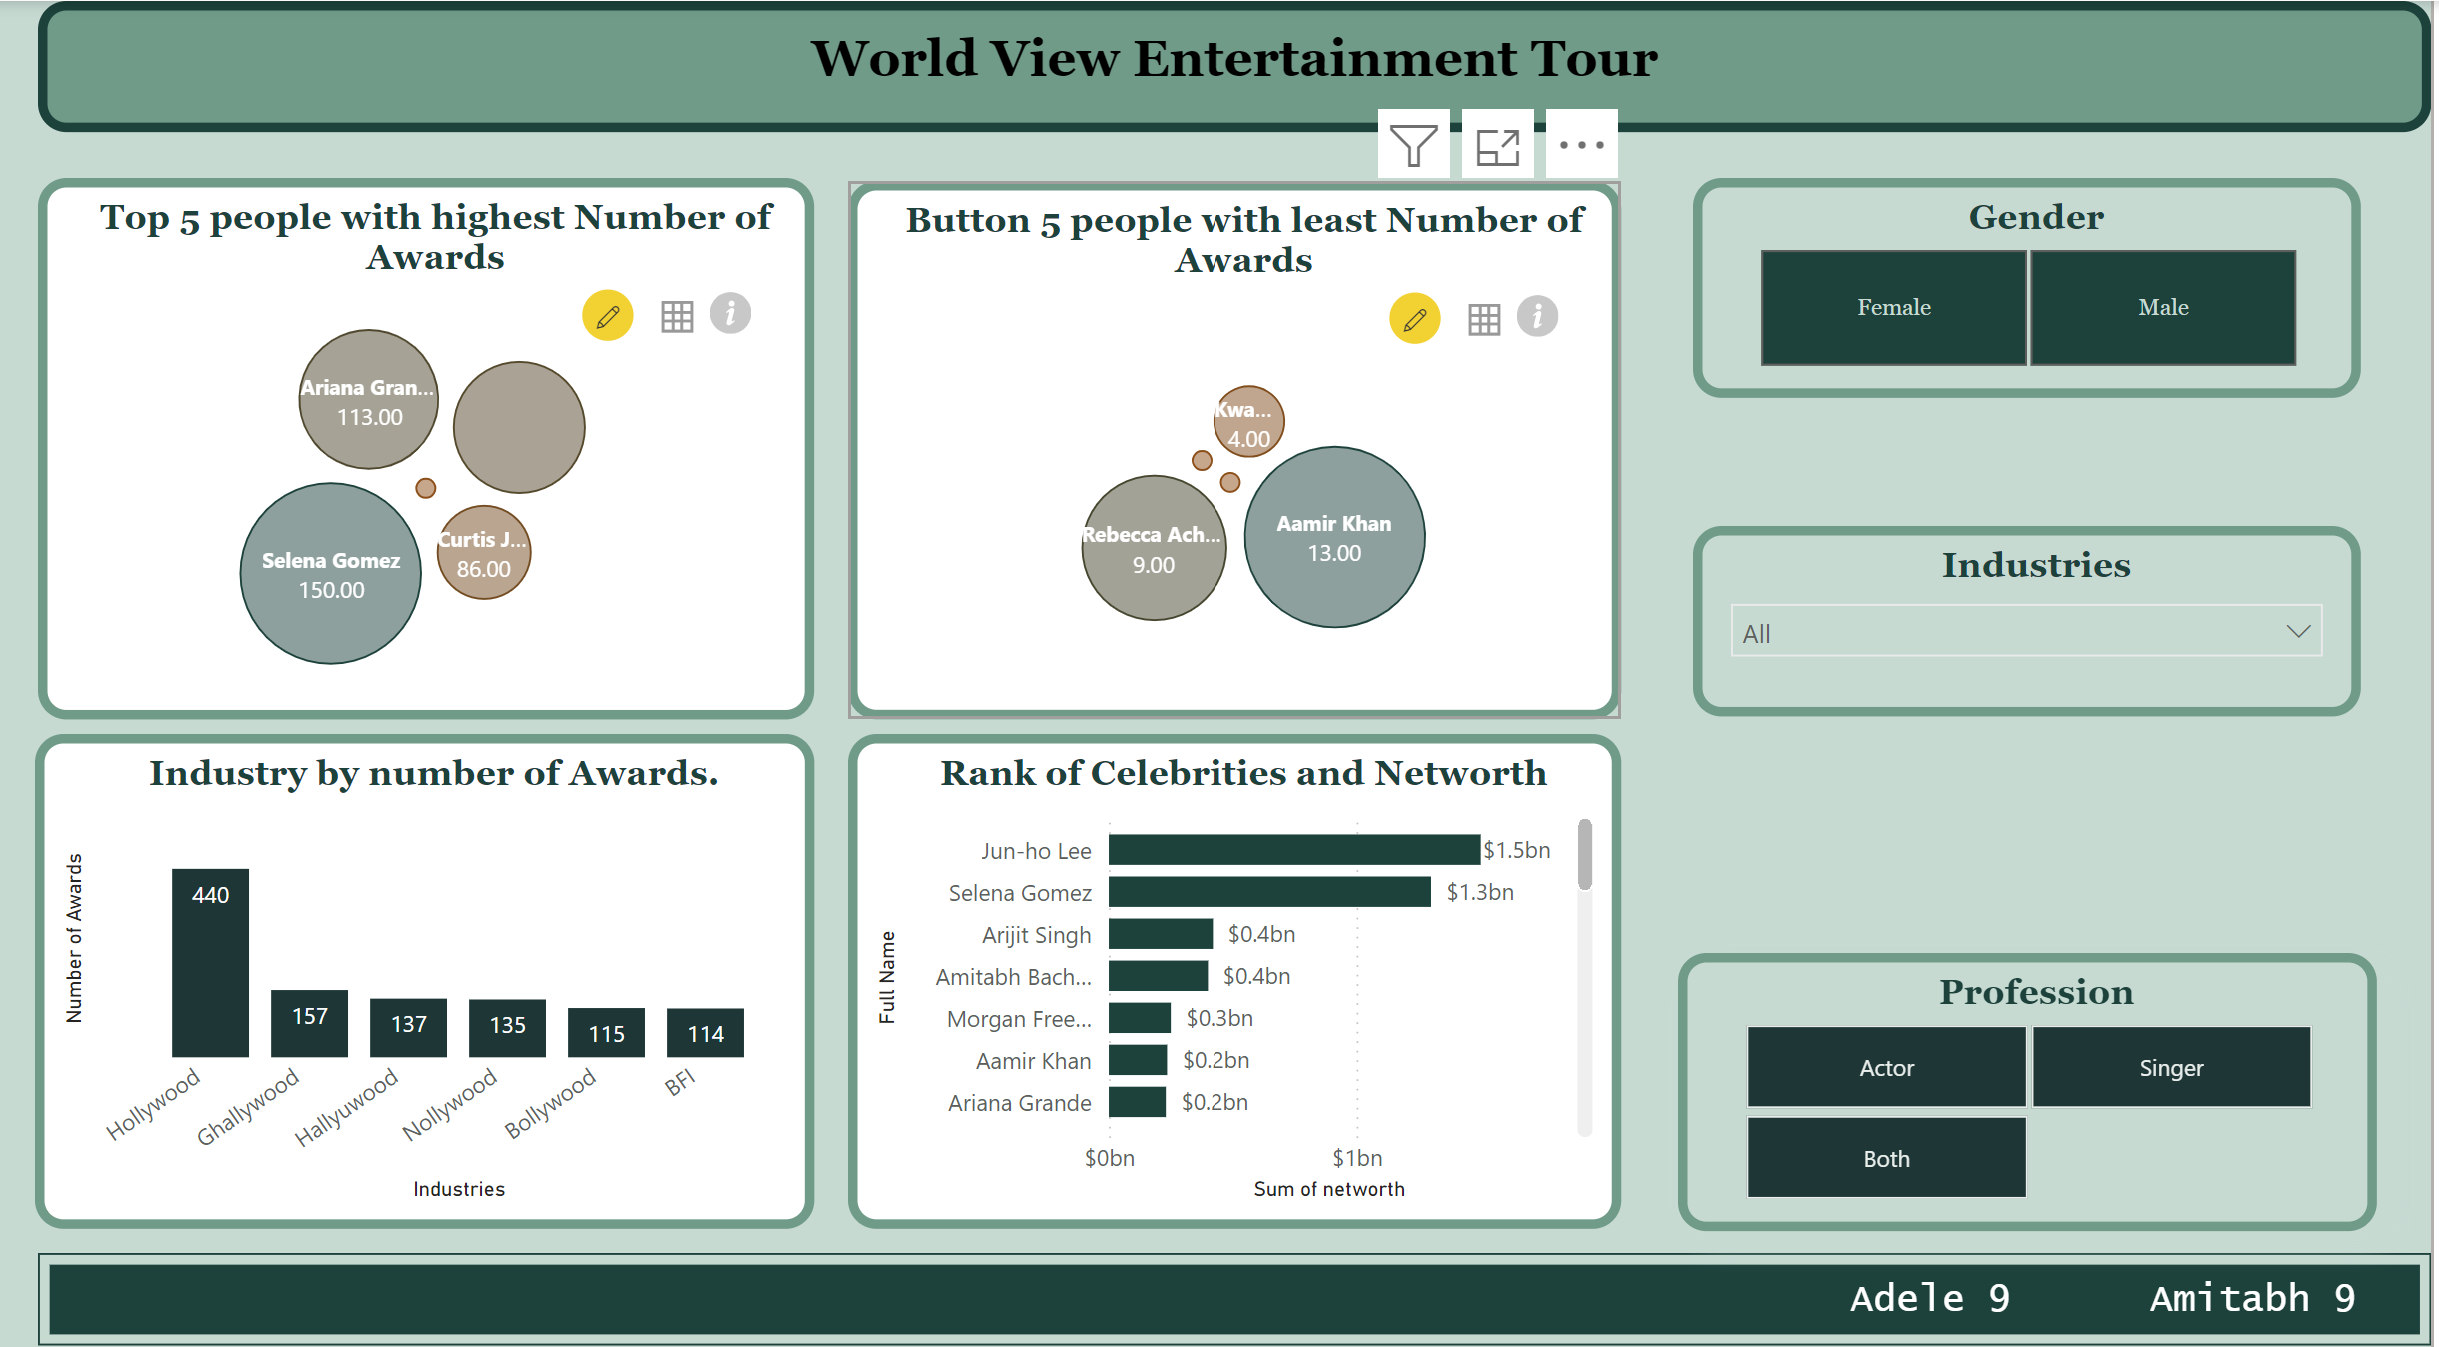

This screenshot's page, from the dashboard's own definition file:
{"tool":"powerbi","page":{"name":"Famous Amos","canvas":[1280,720],"ordinal":2},"visuals":[{"type":"packedBubble563FBEFA65CC43A48496B6BB533D9890","title":"Top 5 people with highest Number of Awards","fields":{"measure":["Sum(Award.number_of_awards)"],"category":["Celebrity.Full Name"]},"box":[20.3,93.5,408.4,284.4],"z":0},{"type":"textbox","box":[20.3,0,1259.7,69.1],"z":1000},{"type":"slicer","title":"Industries","fields":{"Values":["Industry.industry_name"]},"box":[891.9,276.3,351.5,99.6],"z":2000},{"type":"slicer","title":"Gender","fields":{"Values":["Celebrity.gender"]},"box":[891.9,93.5,351.5,115.8],"z":3000},{"type":"ScrollingTextVisual1448795304508","fields":{"Category":["Celebrity.first_name"],"Measure Absolute":["Sum(Award.rating)"]},"box":[20.3,658.3,1259.7,48.8],"z":4000},{"type":"slicer","title":"Profession","fields":{"Values":["Celebrity.profession"]},"box":[883.8,499.8,367.7,146.3],"z":5000},{"type":"clusteredColumnChart","title":"Industry by  number of Awards.","fields":{"Y":["Sum(Award.number_of_awards)"],"Category":["Industry.industry_name"]},"box":[19.4,385.1,410,260.4],"z":6000},{"type":"packedBubble563FBEFA65CC43A48496B6BB533D9890","title":"Button 5 people with least Number of Awards","fields":{"category":["Celebrity.Full Name"],"measure":["Sum(Award.number_of_awards)"]},"box":[446.1,94.2,407.3,282.6],"z":7000},{"type":"clusteredBarChart","title":"Rank of Celebrities and Networth","fields":{"Y":["Sum(Award.networth)"],"Category":["Celebrity.Full Name"]},"box":[446.1,385.1,407.3,260.4],"z":8000}]}

Visuals, with their boxes in screenshot pixels (x1, y1, x2, y2), scaled from the page's 1280x720 canvas onto the 2439x1347 screenshot:
"Top 5 people with highest Number of Awards" packedBubble563FBEFA65CC43A48496B6BB533D9890: [x1=39, y1=175, x2=817, y2=707]
textbox: [x1=39, y1=0, x2=2438, y2=129]
"Industries" slicer: [x1=1699, y1=517, x2=2369, y2=703]
"Gender" slicer: [x1=1699, y1=175, x2=2369, y2=392]
ScrollingTextVisual1448795304508 - Celebrity.first_name x Sum(Award.rating): [x1=39, y1=1232, x2=2438, y2=1323]
"Profession" slicer: [x1=1684, y1=935, x2=2385, y2=1209]
"Industry by  number of Awards." clusteredColumnChart: [x1=37, y1=720, x2=818, y2=1208]
"Button 5 people with least Number of Awards" packedBubble563FBEFA65CC43A48496B6BB533D9890: [x1=850, y1=176, x2=1626, y2=705]
"Rank of Celebrities and Networth" clusteredBarChart: [x1=850, y1=720, x2=1626, y2=1208]
